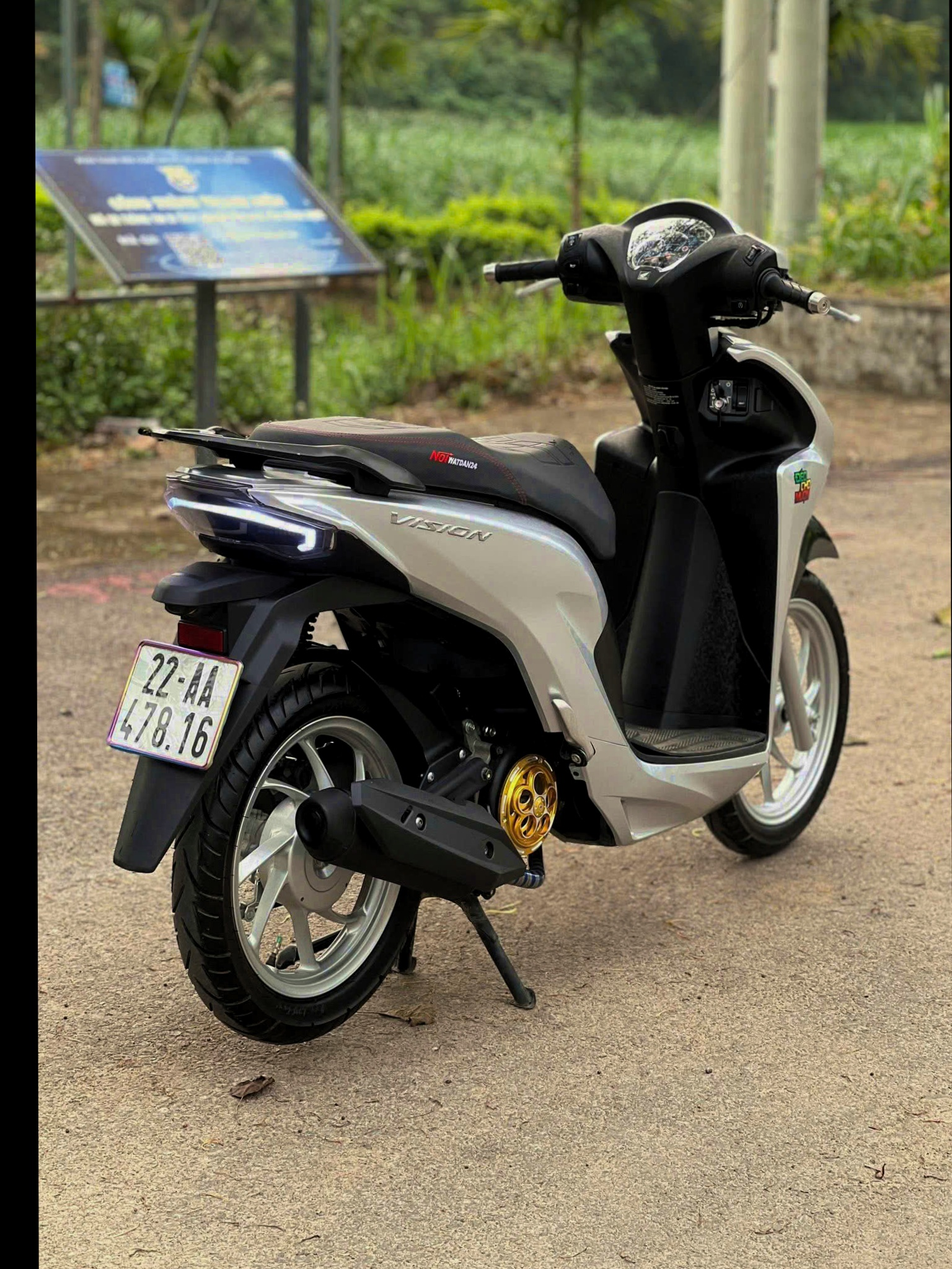Bien-so: (93, 623, 246, 765)
